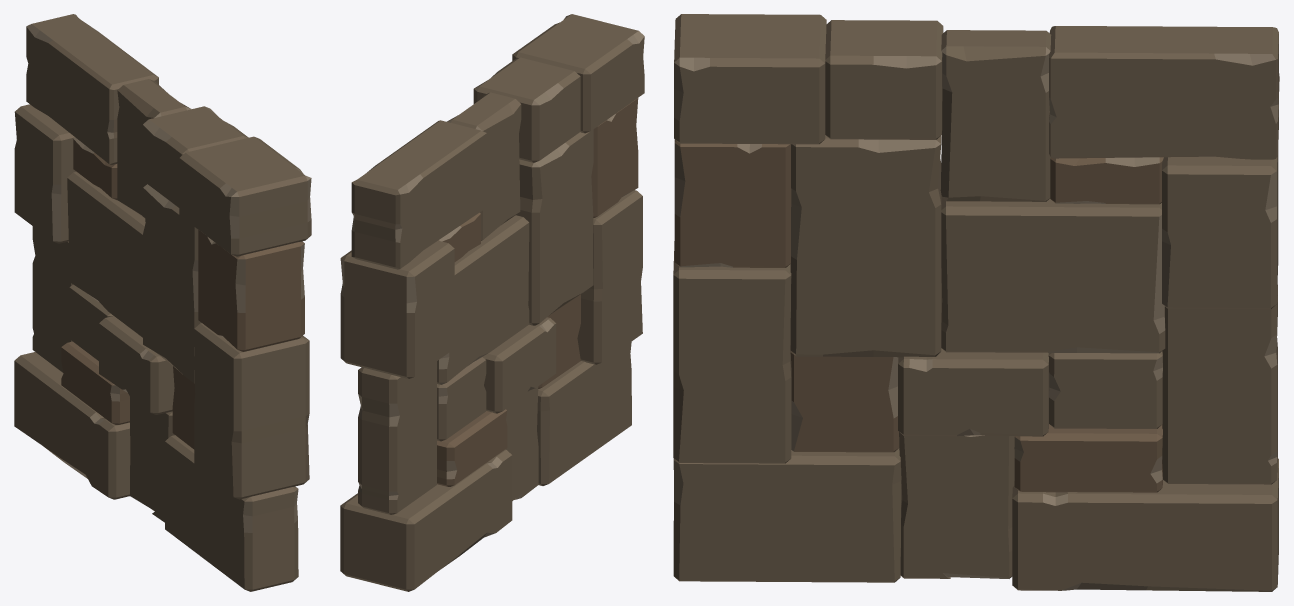
File: final_wall_east_8_lev3.glb
The picture shows the model from 3 angles, left to right: view 1: azimuth 30°, elevation 25°; view 2: azimuth 150°, elevation 25°; view 3: azimuth 270°, elevation 25°; orthographic projection. The views are drawn at different scales.
Visible parts, largest first — view 1: final_wall_east_8_lev3; view 2: final_wall_east_8_lev3; view 3: final_wall_east_8_lev3.
Part boxes in pixels (x1,y1,x2,y2): final_wall_east_8_lev3: (14, 14, 311, 591); final_wall_east_8_lev3: (340, 14, 644, 591); final_wall_east_8_lev3: (673, 14, 1279, 591).
Size of the model in its own units: 1.29 by 5.96 by 6.15.
